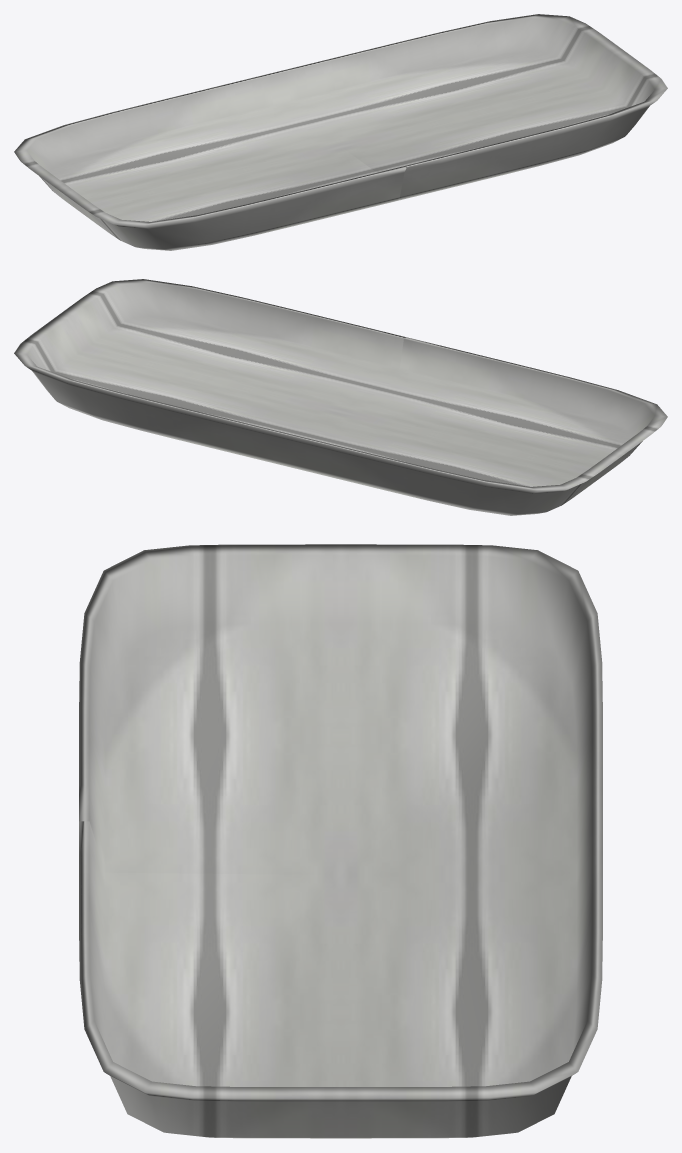
The model's file is ORI-02.glb.
3 views of the same model, one above another, from view 1: azimuth 30°, elevation 25°; view 2: azimuth 150°, elevation 25°; view 3: azimuth 270°, elevation 25° (orthographic). The views are drawn at different scales.
Bounding box in the file's own units: 0.3 × 0.02 × 0.12.
1 material, 1 textured.
